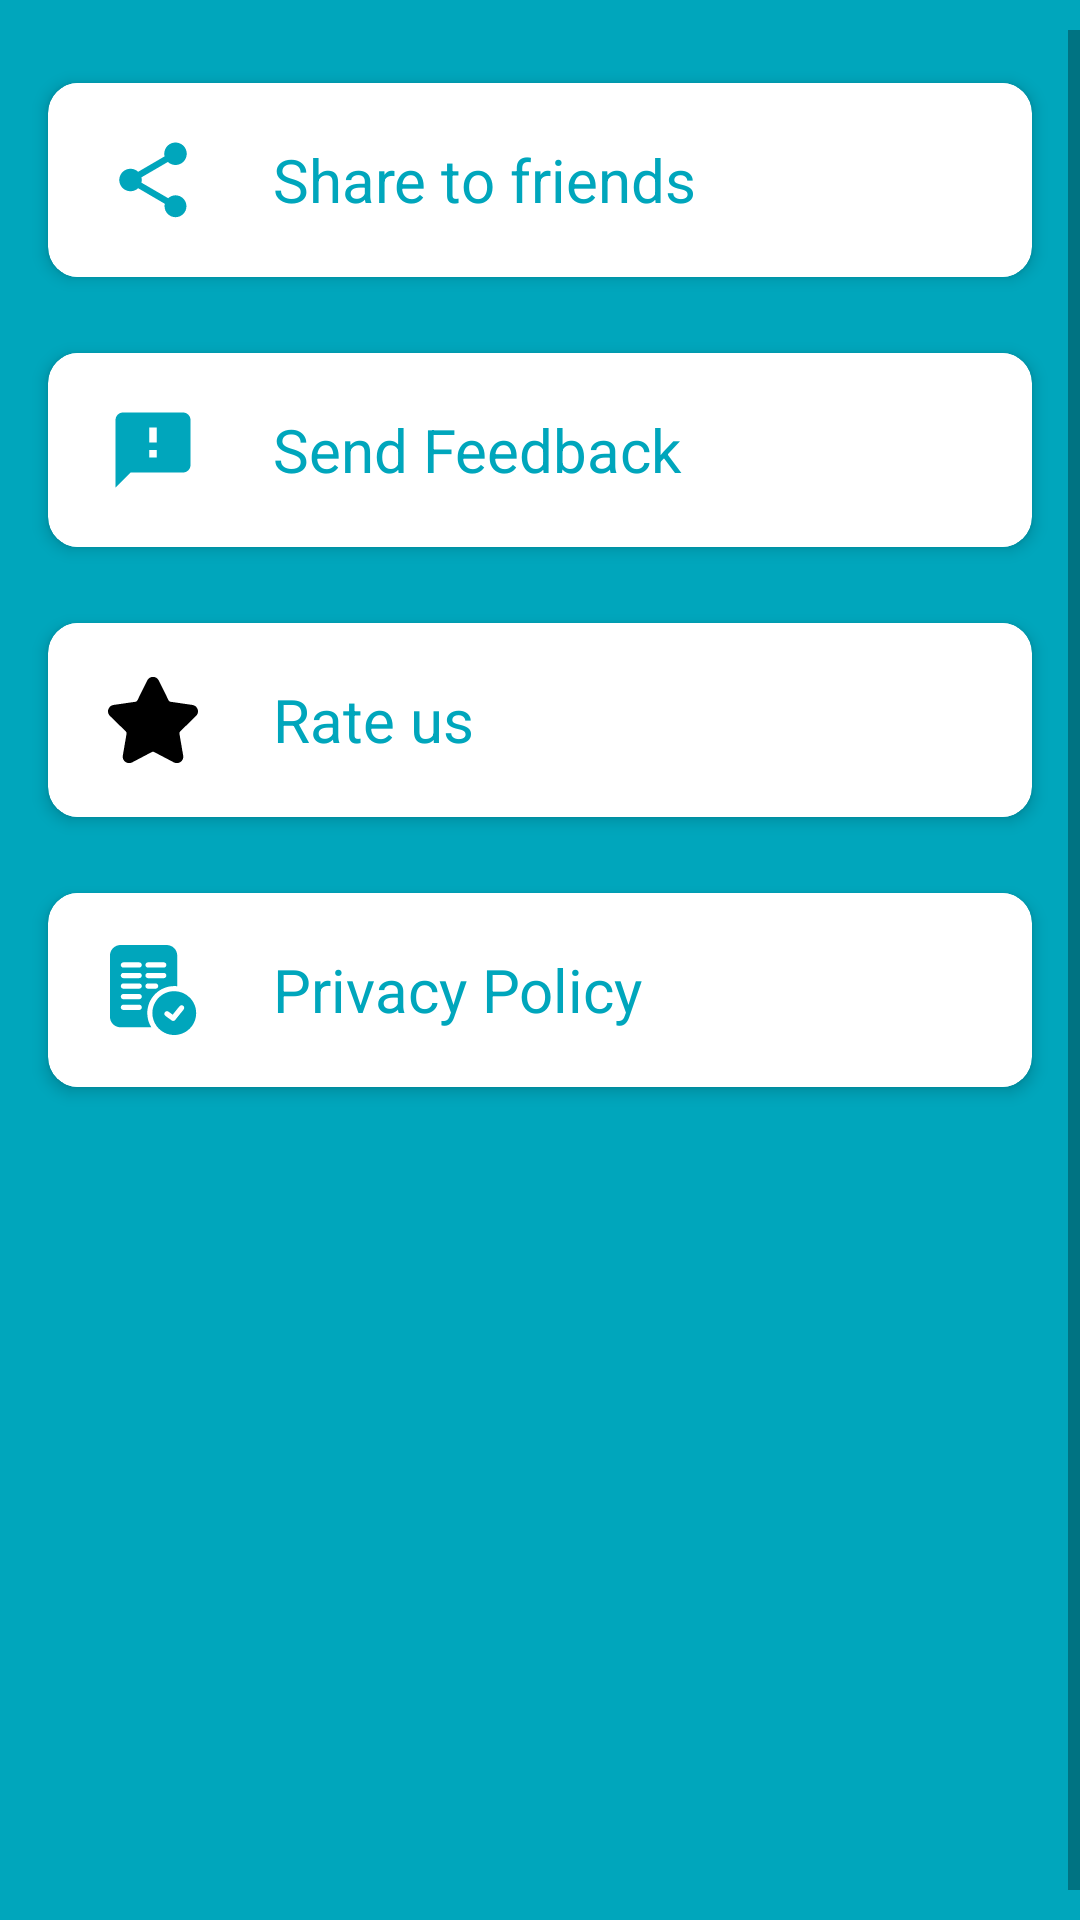

Icon bounding boxes for this 1080×1920 phone screenshot, format BBox(x1, y1, x2, y2):
star: BBox(108, 677, 198, 763)
